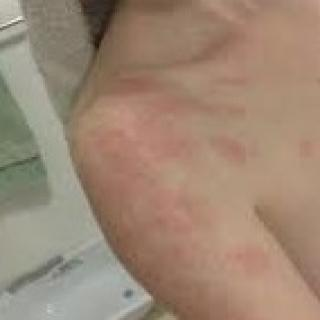urticaria: (115, 65, 275, 157), (95, 122, 216, 228), (169, 232, 275, 297), (296, 137, 317, 166)
